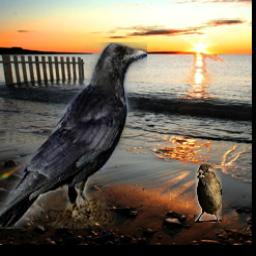Crow: (0, 43, 148, 230)
Sparrow: (195, 162, 222, 223)
